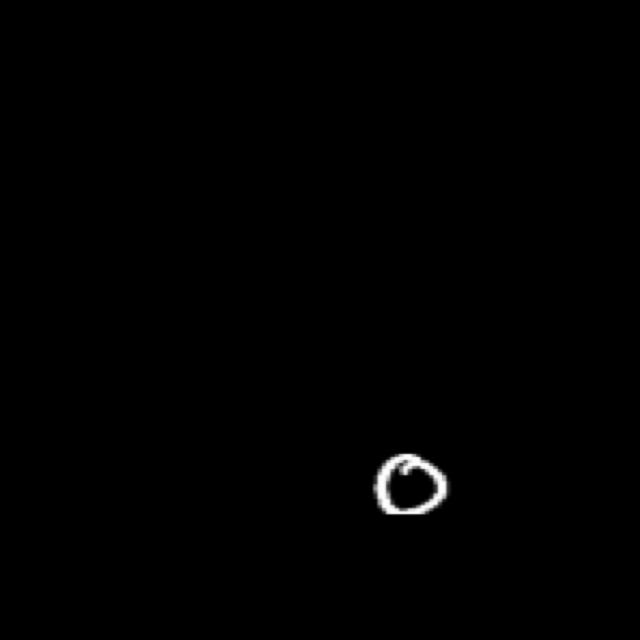zero -0-: (358, 442, 462, 530)
